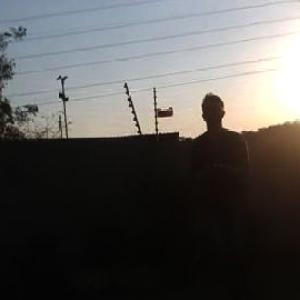follow: (188, 80, 260, 299)
